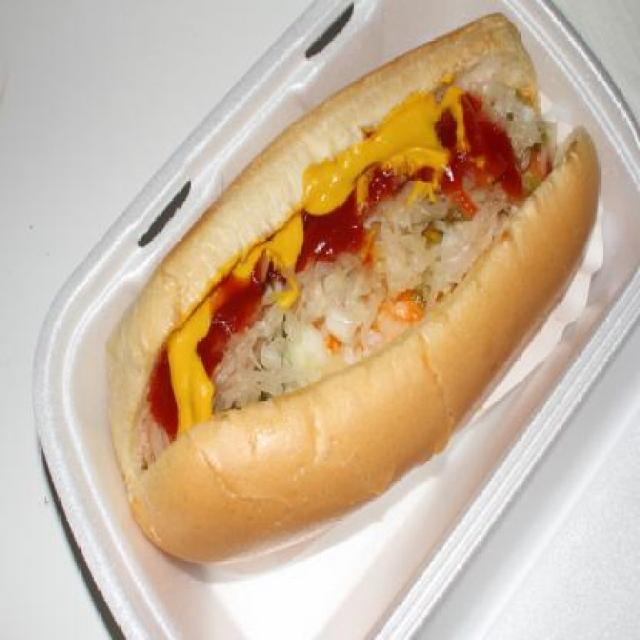Hot dog: (102, 8, 593, 567)
